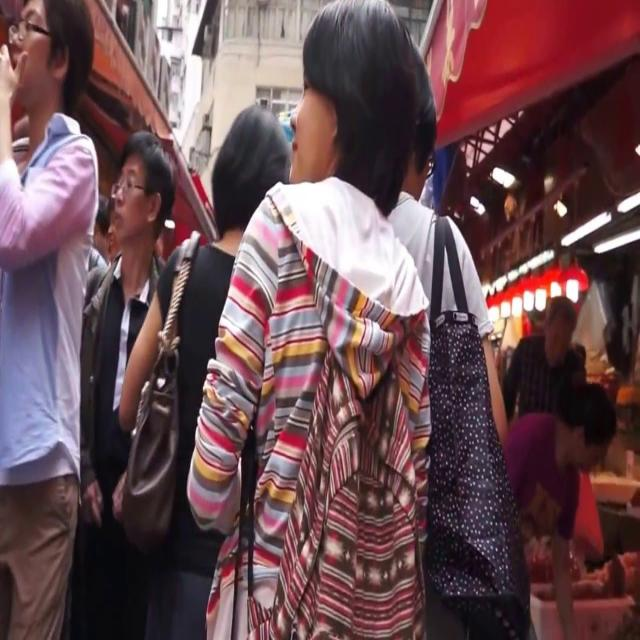body: (181, 0, 441, 639), (118, 103, 292, 640), (384, 30, 524, 640), (0, 0, 100, 639), (63, 126, 179, 639), (501, 380, 619, 639), (502, 294, 594, 449), (74, 188, 118, 300), (575, 319, 627, 382)
